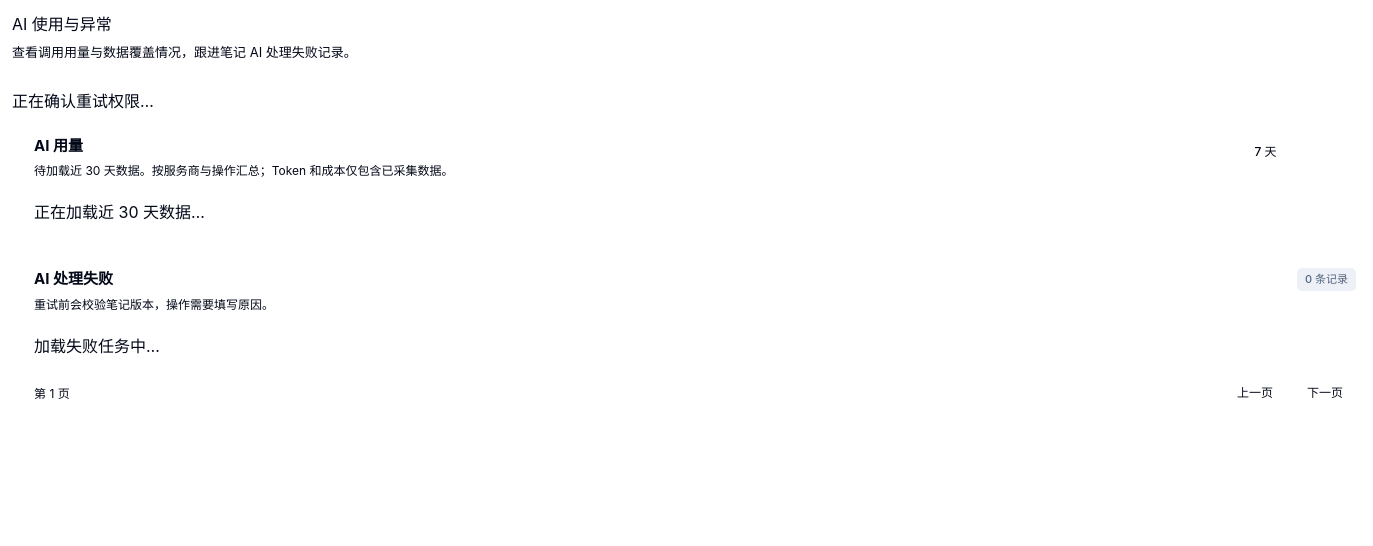
Test: AiPage › ignores an older usage failure after a newer range succeeds
This screenshot has width=1373, height=546.
Click the button "7 天": (1266, 152) 1242,134 -> 1290,170
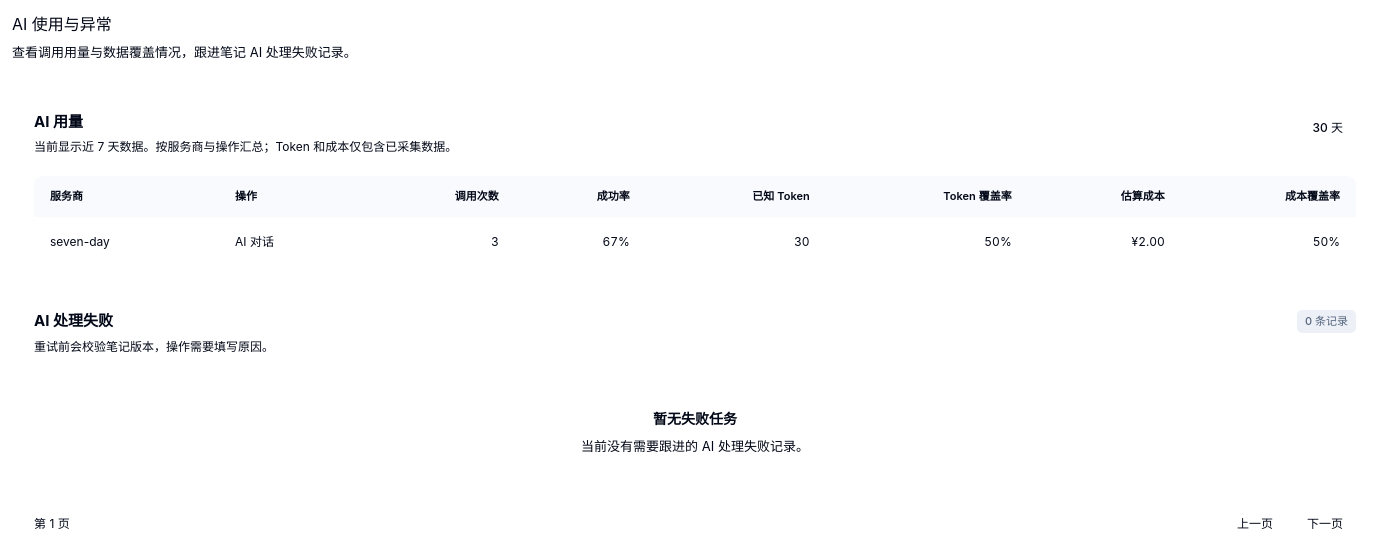
expect the text "seven-day" is shown: met, box 34,216 -> 219,266
